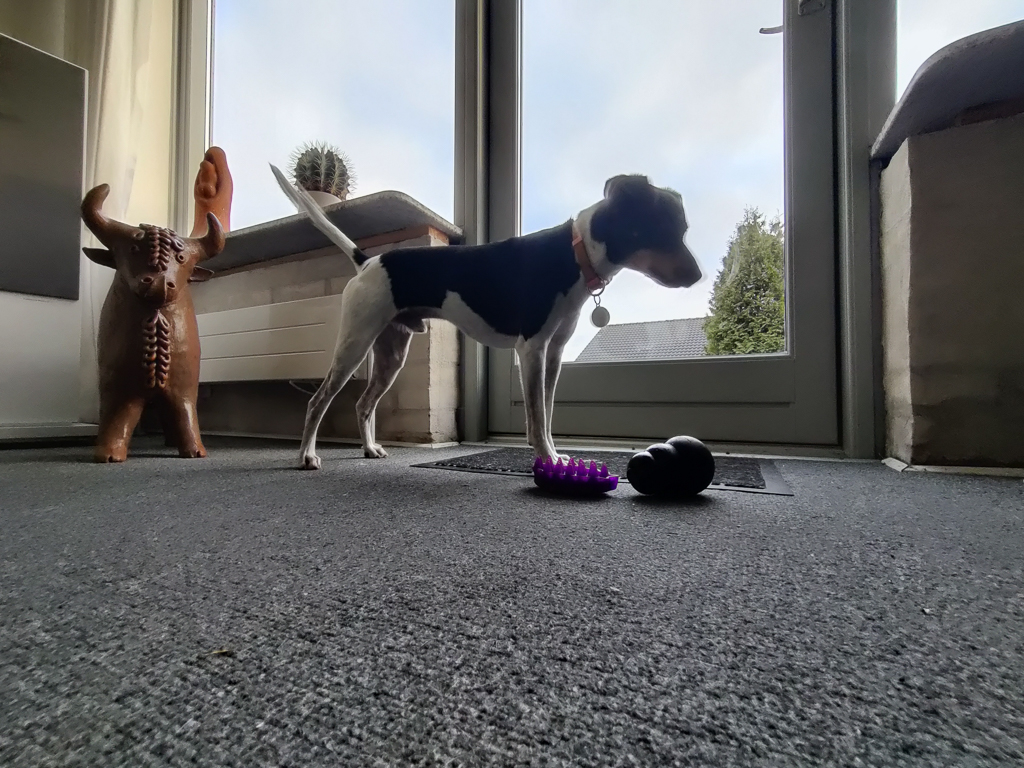Cattle: (79, 170, 228, 465)
Dog: (267, 159, 705, 484)
Humanoid: (186, 139, 236, 240)
